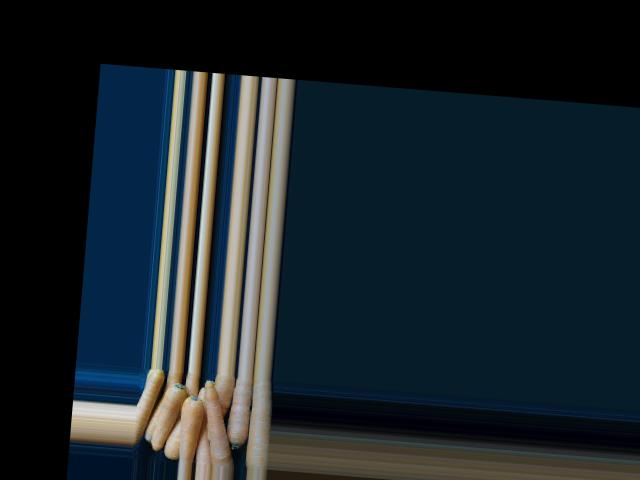carrot: (245, 376, 272, 466)
